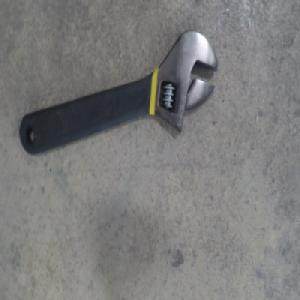AdjustableWrench: (20, 30, 220, 156)
